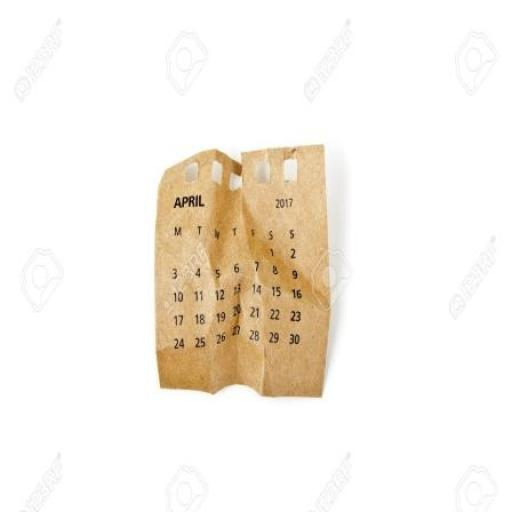paper: (139, 121, 339, 423)
